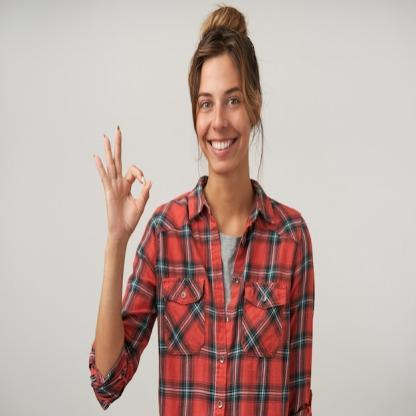ok: (90, 125, 154, 242)
